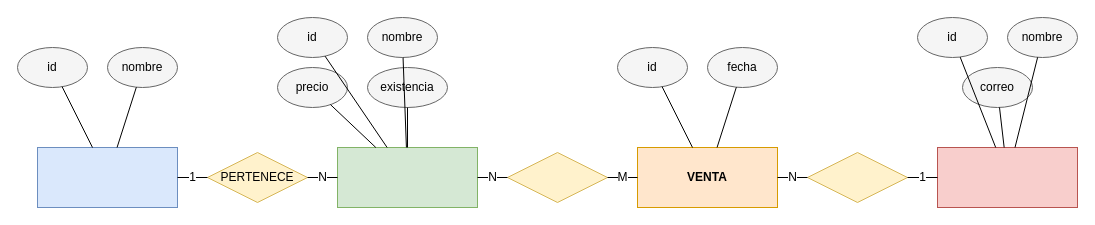
Image size: 1095x225. Some labels were removed from this diagram. Each missing label, with the centre of its shape:
CATEGORIA: the point at 107,177
CLIENTE: the point at 1007,177
INCLUYE: the point at 557,177
PRODUCTO: the point at 407,177
REALIZA: the point at 857,177
